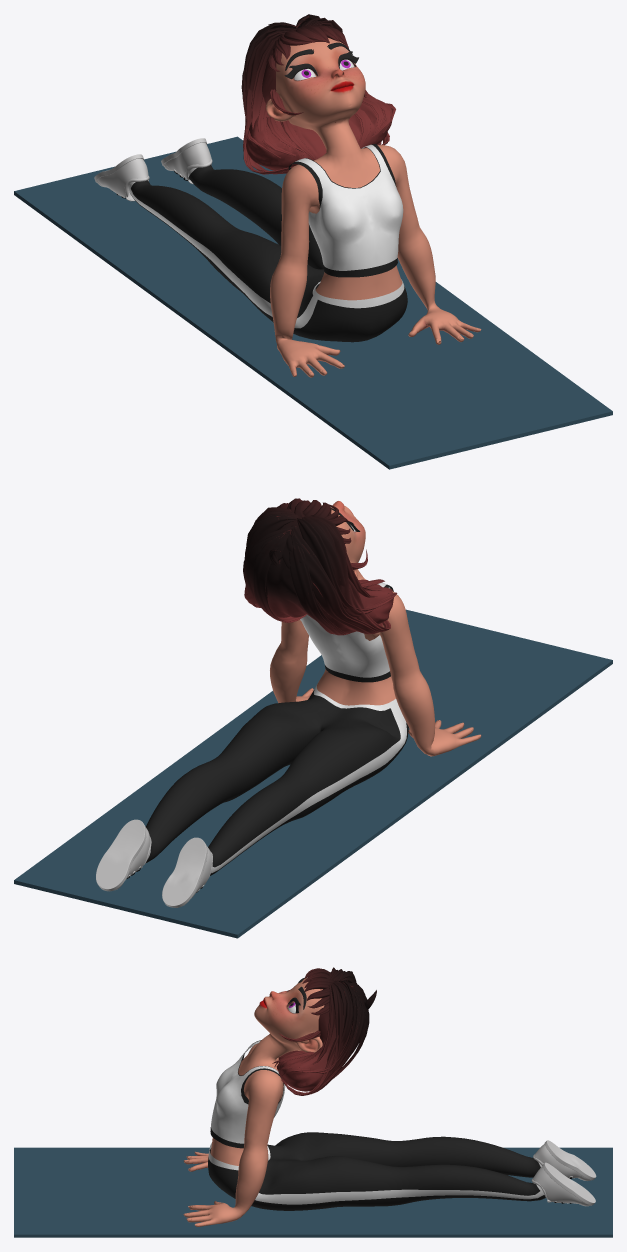
Rendered from bhujangasana.glb.
The picture shows the model from 3 angles, top to bottom: view 1: azimuth 30°, elevation 25°; view 2: azimuth 150°, elevation 25°; view 3: azimuth 270°, elevation 25°; orthographic projection. The views are drawn at different scales.
Visible parts, largest first — view 1: Cube, base, BOT, hair, TOP, shoes; view 2: Cube, BOT, hair, base, shoes, TOP; view 3: Cube, BOT, base, hair, TOP, shoes.
Part boxes in pixels (x1,y1,x2,y2): Cube: (14,136,612,469); base: (265,38,481,377); BOT: (128,165,407,342); hair: (241,14,395,174); TOP: (288,144,403,277); shoes: (94,138,212,201); Cube: (14,609,612,938); BOT: (146,681,408,875); hair: (243,498,397,635); base: (270,501,481,756); shoes: (96,819,212,907); TOP: (300,582,393,682); Cube: (14,1147,612,1237); BOT: (208,1132,545,1210); base: (183,978,324,1226); hair: (272,967,376,1095); TOP: (210,1040,285,1148); shoes: (531,1140,596,1206).
Bounding box in the file's own units: 4.93 × 5.83 × 14.34.
Materials: 11 (2 with a texture image).
